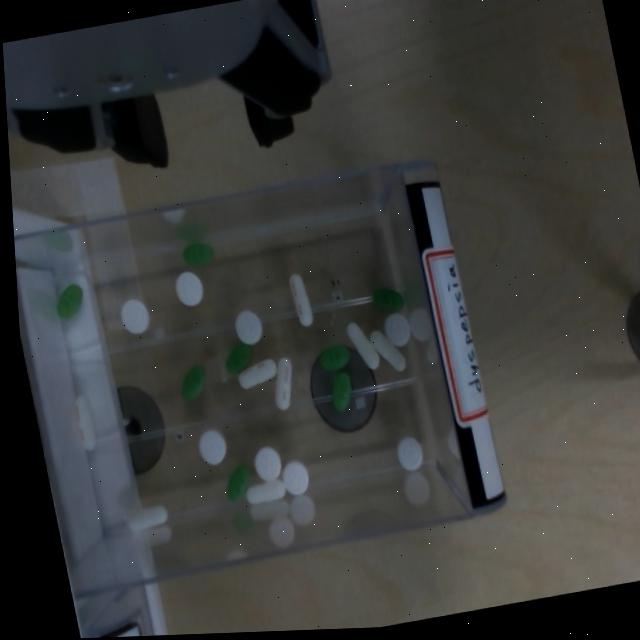magmil_tab: (120, 298, 149, 333), (175, 270, 203, 306), (198, 429, 226, 465), (282, 459, 309, 495), (254, 446, 281, 481), (235, 310, 262, 344), (396, 436, 422, 470), (384, 312, 410, 346)
medilacsenteric_tab: (346, 323, 379, 369), (370, 330, 406, 371), (289, 273, 313, 326), (75, 395, 96, 449), (238, 359, 276, 388), (128, 505, 167, 531), (246, 479, 284, 504), (275, 357, 292, 410)
nexilen_tab: (56, 283, 83, 320), (225, 342, 251, 375), (226, 465, 249, 501), (318, 345, 349, 371), (331, 371, 351, 411), (372, 287, 403, 312), (182, 365, 204, 400), (182, 242, 213, 266)
